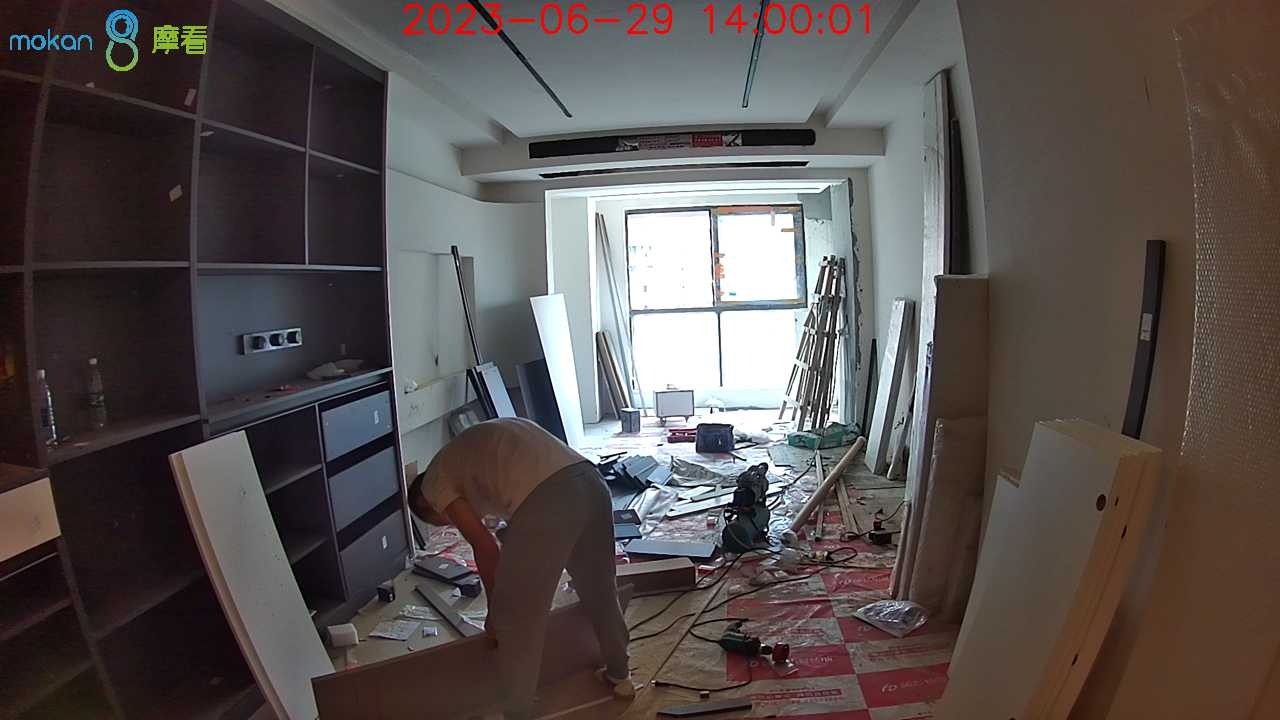people: (408, 414, 642, 714)
window: (626, 213, 802, 396)
